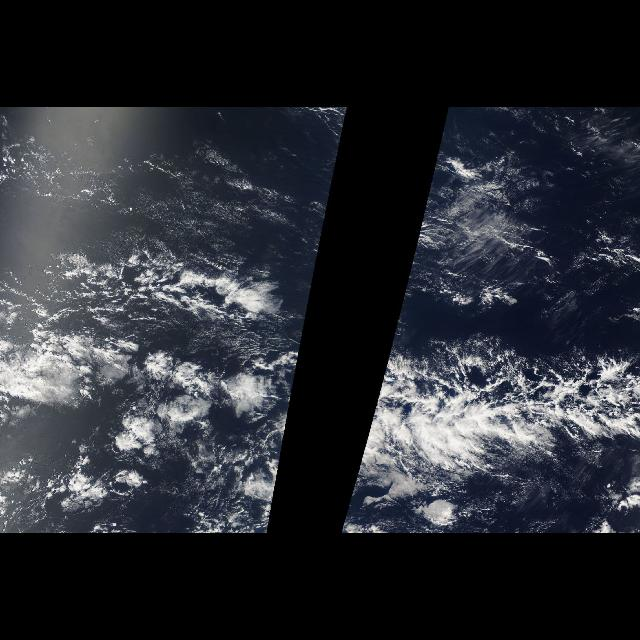Fish: (342, 330, 640, 518), (186, 338, 304, 518)
Sugar: (8, 115, 342, 262)
